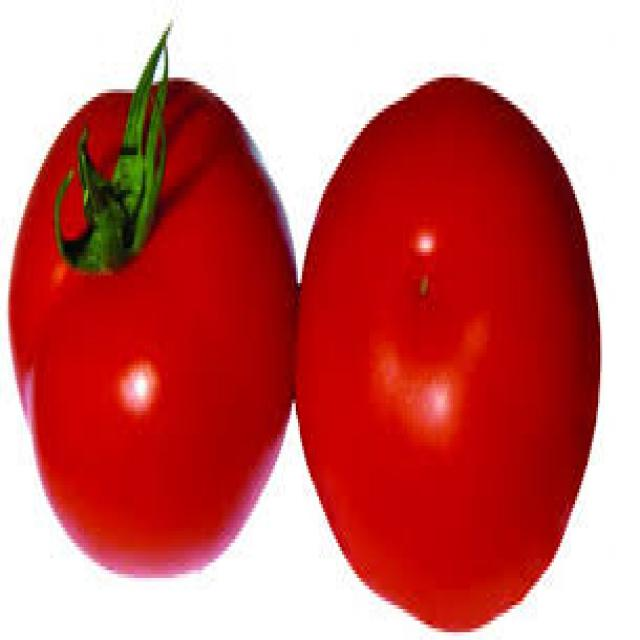organic waste: (294, 70, 600, 628), (6, 82, 296, 574)
